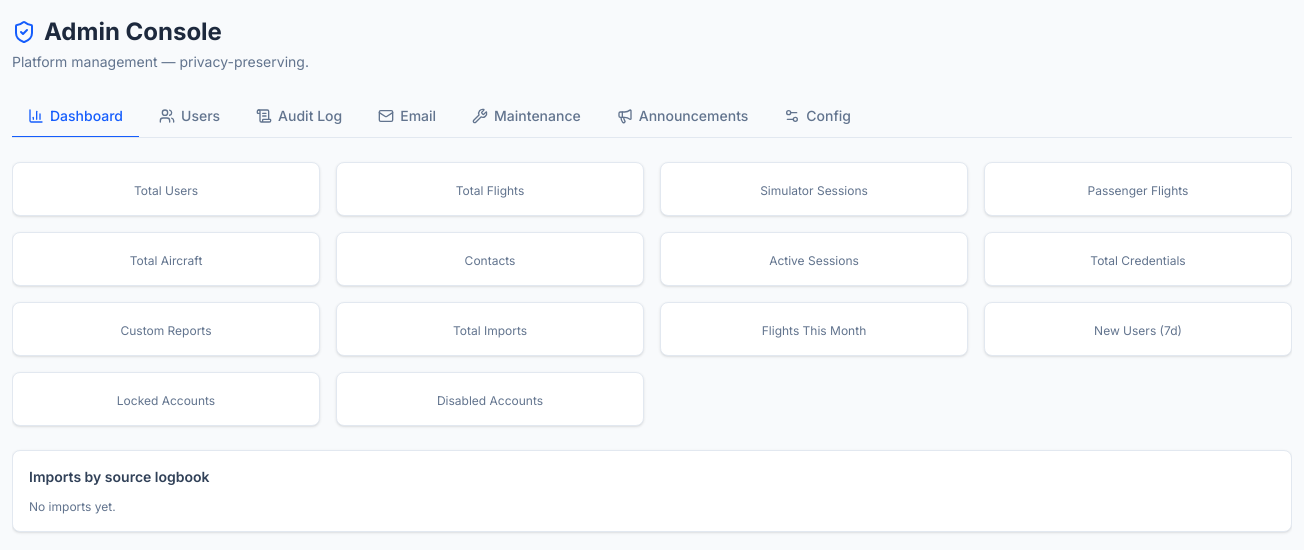
Test case: AdminPage — Admin Features › shows admin console with tabs, Users content with search, and privacy enforcement
Expected: the heading "Admin Console" is shown, [44,16,222,48]
Expected: the button "Dashboard" is shown, [12,96,139,138]
Navigate to Users
Click the button "Users" at [190, 117], box [143,96,236,138]
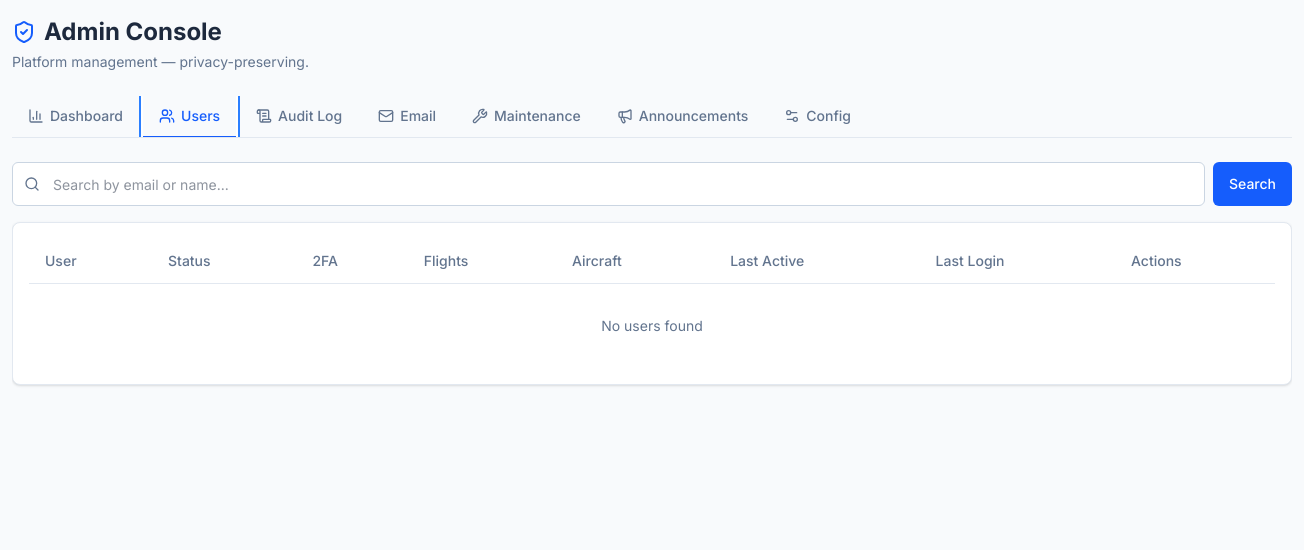
Result: the column heading "Status" is shown at [152,239,296,284]
Result: the column heading "2FA" is shown at [296,239,408,284]
Result: the column heading "Actions" is shown at [1115,239,1275,284]
